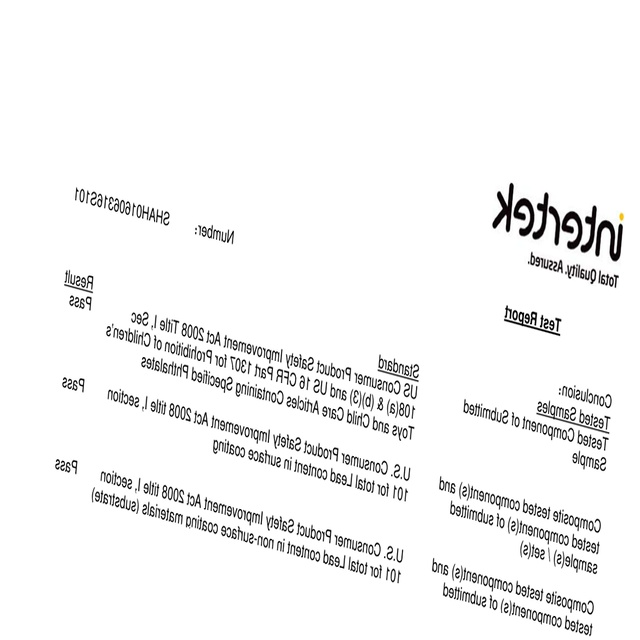intertek: (487, 177, 626, 266)
